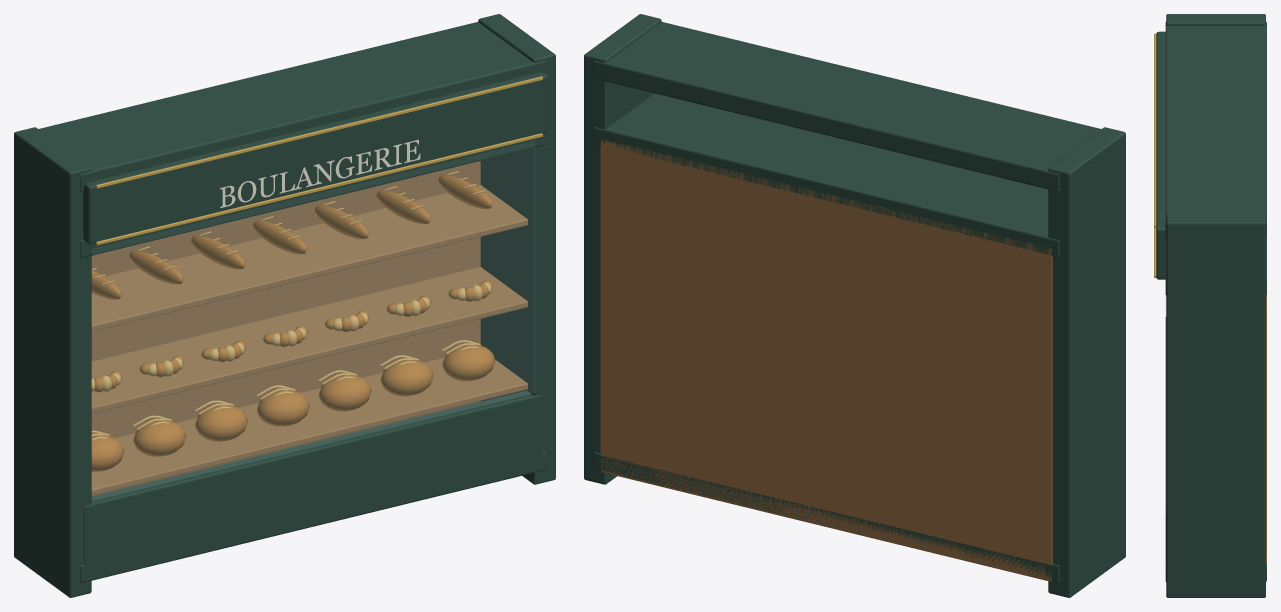
File: bakery_display.glb
3 views of the same model, side by side, from view 1: azimuth 30°, elevation 25°; view 2: azimuth 150°, elevation 25°; view 3: azimuth 270°, elevation 25° (orthographic). The views are drawn at different scales.
Parts seen in each view (by area): view 1: Glass_front, Timber_pilaster, Paneled_base, Frame_rail.002, Interior_back, Framed_sign, Oak_display_shelf.001, Oak_display_shelf.002, Timber_pilaster.001, Oak_display_shelf, Frame_rail, Frame_rail.001 (+16 smaller); view 2: Interior_back, Frame_rail.002, Timber_pilaster, Frame_rail.001, Timber_pilaster.001, Frame_rail; view 3: Timber_pilaster.001, Frame_rail.002, Framed_sign, Timber_pilaster, Gold_sign_border.001, Paneled_base, Interior_back.
Boxes of the visible parts, box(x1,y1,x2,y2) form: Glass_front: box(92, 148, 534, 500); Timber_pilaster: box(14, 127, 91, 597); Paneled_base: box(83, 390, 542, 572); Frame_rail.002: box(38, 22, 546, 191); Interior_back: box(91, 161, 480, 496); Framed_sign: box(83, 72, 547, 244); Oak_display_shelf.001: box(91, 267, 527, 413); Oak_display_shelf.002: box(91, 185, 527, 331); Timber_pilaster.001: box(478, 14, 555, 484); Oak_display_shelf: box(91, 357, 527, 495); Frame_rail: box(80, 452, 546, 583); Frame_rail.001: box(80, 133, 546, 258); Interior_back: box(600, 139, 1052, 581); Frame_rail.002: box(593, 22, 1101, 191); Timber_pilaster: box(1048, 127, 1125, 597); Frame_rail.001: box(593, 93, 1059, 258); Timber_pilaster.001: box(584, 14, 661, 484); Frame_rail: box(593, 452, 1059, 583); Timber_pilaster.001: box(1166, 213, 1265, 597); Frame_rail.002: box(1165, 21, 1266, 236); Framed_sign: box(1156, 31, 1166, 279); Timber_pilaster: box(1166, 14, 1265, 25); Gold_sign_border.001: box(1154, 33, 1156, 227); Paneled_base: box(1165, 317, 1166, 564); Interior_back: box(1266, 294, 1266, 564).
Size of the model in its own units: 3.23 by 2.7 by 0.734.
